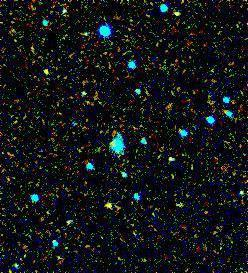star: (32, 58, 62, 88)
